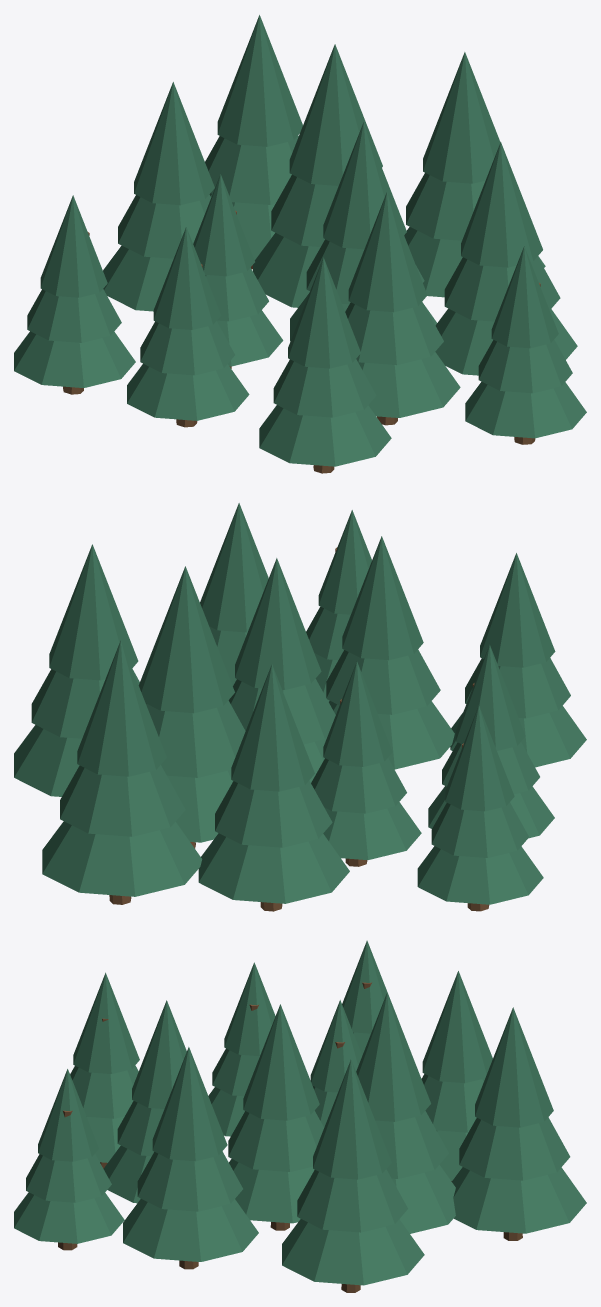
The model's file is FEATURE_TAIGA_v00.fbx.
3 views of the same model, one above another, from view 1: azimuth 30°, elevation 25°; view 2: azimuth 150°, elevation 25°; view 3: azimuth 270°, elevation 25° (orthographic). The views are drawn at different scales.
Visible parts, largest first — view 1: Pine_whorl.035, Pine_whorl.011, Pine_whorl.021, Pine_whorl.026, Pine_whorl.017, Pine_whorl.020, Pine_whorl.008, Pine_whorl.012, Pine_whorl.027, Pine_whorl.030, Pine_whorl.002, Pine_whorl.023 (+23 smaller); view 2: Pine_whorl.033, Pine_whorl.011, Pine_whorl.018, Pine_whorl.035, Pine_whorl.034, Pine_whorl.026, Pine_whorl.002, Pine_whorl.020, Pine_whorl.019, Pine_whorl.008, Pine_whorl.027, Pine_whorl.010 (+21 smaller); view 3: Pine_whorl.024, Pine_whorl.033, Pine_whorl.015, Pine_whorl.011, Pine_whorl.035, Pine_whorl.026, Pine_whorl.034, Pine_whorl.025, Pine_whorl.002, Pine_whorl.017, Pine_whorl.016, Pine_whorl.020 (+21 smaller).
Part boxes in pixels (left/top/right/bottom): Pine_whorl.035: left=217, top=15, right=302, bottom=146; Pine_whorl.011: left=289, top=44, right=382, bottom=185; Pine_whorl.021: left=259, top=405, right=391, bottom=466; Pine_whorl.026: left=423, top=52, right=500, bottom=183; Pine_whorl.017: left=461, top=142, right=542, bottom=267; Pine_whorl.020: left=134, top=82, right=214, bottom=205; Pine_whorl.008: left=348, top=192, right=427, bottom=312; Pine_whorl.012: left=127, top=363, right=249, bottom=420; Pine_whorl.027: left=14, top=331, right=135, bottom=387; Pine_whorl.030: left=465, top=381, right=586, bottom=438; Pine_whorl.002: left=323, top=122, right=406, bottom=249; Pine_whorl.023: left=288, top=257, right=360, bottom=368; Pine_whorl.033: left=42, top=821, right=202, bottom=896; Pine_whorl.011: left=138, top=566, right=234, bottom=713; Pine_whorl.018: left=198, top=833, right=349, bottom=903; Pine_whorl.035: left=77, top=640, right=166, bottom=776; Pine_whorl.034: left=60, top=765, right=185, bottom=836; Pine_whorl.026: left=49, top=544, right=138, bottom=680; Pine_whorl.002: left=235, top=558, right=321, bottom=689; Pine_whorl.020: left=231, top=664, right=314, bottom=791; Pine_whorl.019: left=215, top=780, right=332, bottom=847; Pine_whorl.008: left=342, top=536, right=423, bottom=660; Pine_whorl.027: left=417, top=846, right=543, bottom=904; Pine_whorl.010: left=146, top=700, right=245, bottom=777; Pine_whorl.024: left=282, top=1219, right=424, bottom=1285; Pine_whorl.033: left=452, top=1167, right=586, bottom=1233; Pine_whorl.015: left=123, top=1199, right=258, bottom=1261; Pine_whorl.011: left=356, top=992, right=430, bottom=1121; Pine_whorl.035: left=475, top=1007, right=553, bottom=1127; Pine_whorl.026: left=313, top=1059, right=391, bottom=1179; Pine_whorl.034: left=459, top=1117, right=570, bottom=1180; Pine_whorl.025: left=297, top=1169, right=407, bottom=1232; Pine_whorl.002: left=243, top=1004, right=319, bottom=1120; Pine_whorl.017: left=152, top=1047, right=227, bottom=1161; Pine_whorl.016: left=137, top=1151, right=242, bottom=1211; Pine_whorl.020: left=422, top=971, right=492, bottom=1083.
Size of the model in its own units: 134 by 69.1 by 144.
